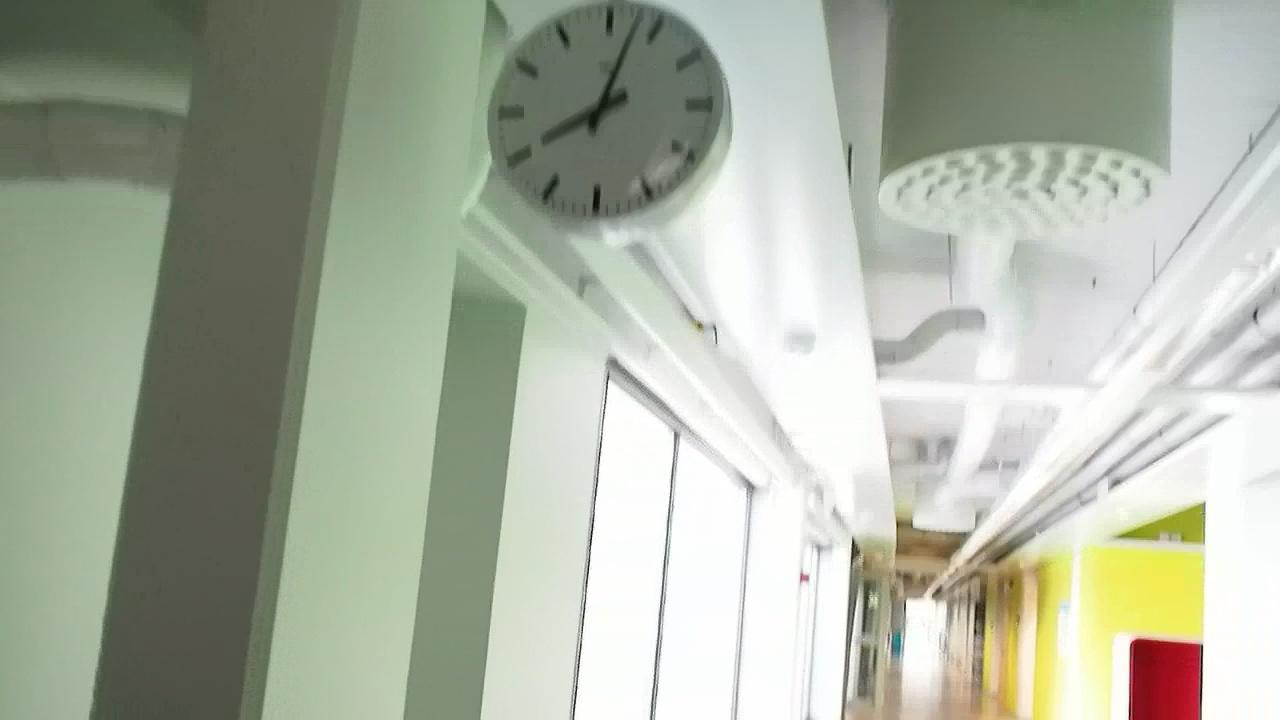clock: (478, 0, 740, 233)
